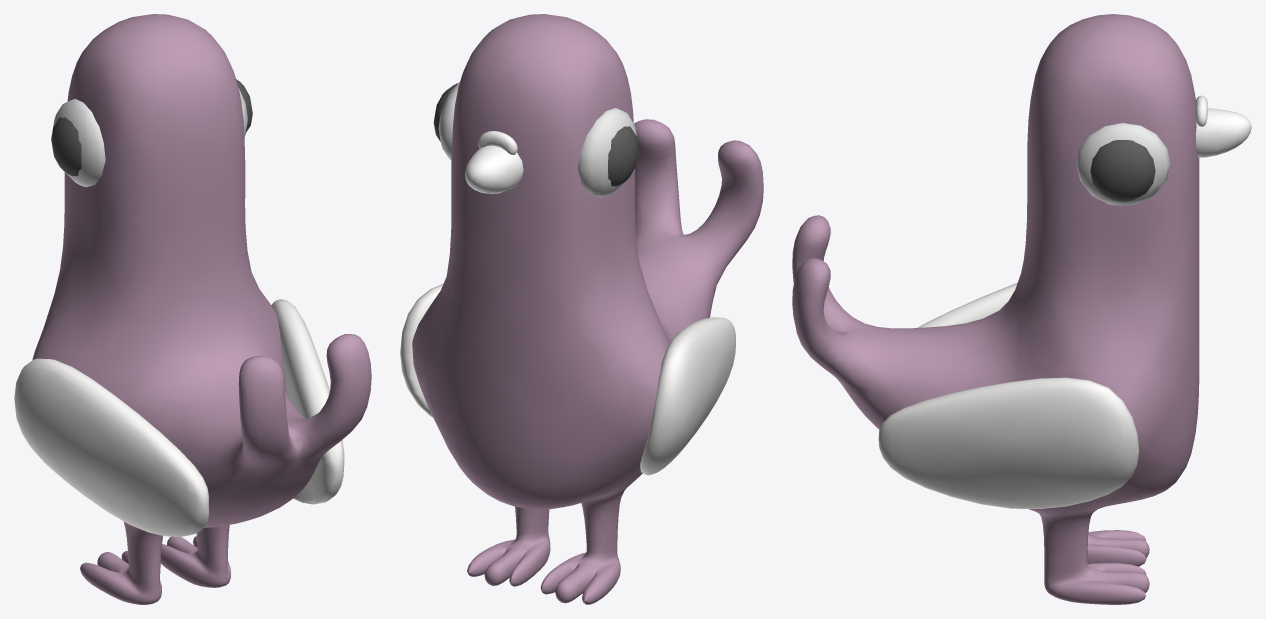
The model's file is new_bird.gltf.
The picture shows the model from 3 angles, left to right: view 1: azimuth 30°, elevation 25°; view 2: azimuth 150°, elevation 25°; view 3: azimuth 270°, elevation 25°; orthographic projection.
Visible parts, largest first — view 1: Pigeon, Wing, Eye (×2); view 2: Pigeon, Wing, Eye (×2), Peak, Cube; view 3: Pigeon, Wing, Eye (×2), Peak.
Part boxes in pixels (x1,y1,x2,y2): Pigeon: [32, 14, 371, 604]; Wing: [14, 299, 344, 536]; Eye (×2): [51, 88, 247, 186]; Pigeon: [412, 14, 763, 604]; Wing: [400, 284, 735, 475]; Eye (×2): [438, 82, 638, 197]; Peak: [465, 145, 523, 193]; Cube: [478, 131, 517, 154]; Pigeon: [792, 14, 1199, 604]; Wing: [878, 283, 1139, 508]; Eye (×2): [1076, 123, 1170, 205]; Peak: [1196, 108, 1251, 157].
Size of the model in its own units: 224 by 431 by 323.
